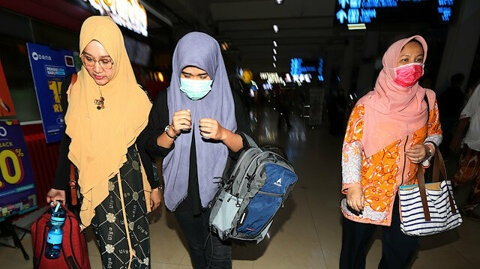mask: (177, 78, 215, 100), (395, 65, 422, 86)
no_mask: (84, 65, 115, 87)
